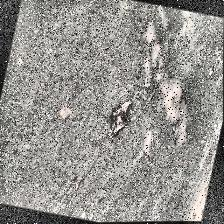pothole: (102, 90, 140, 144)
